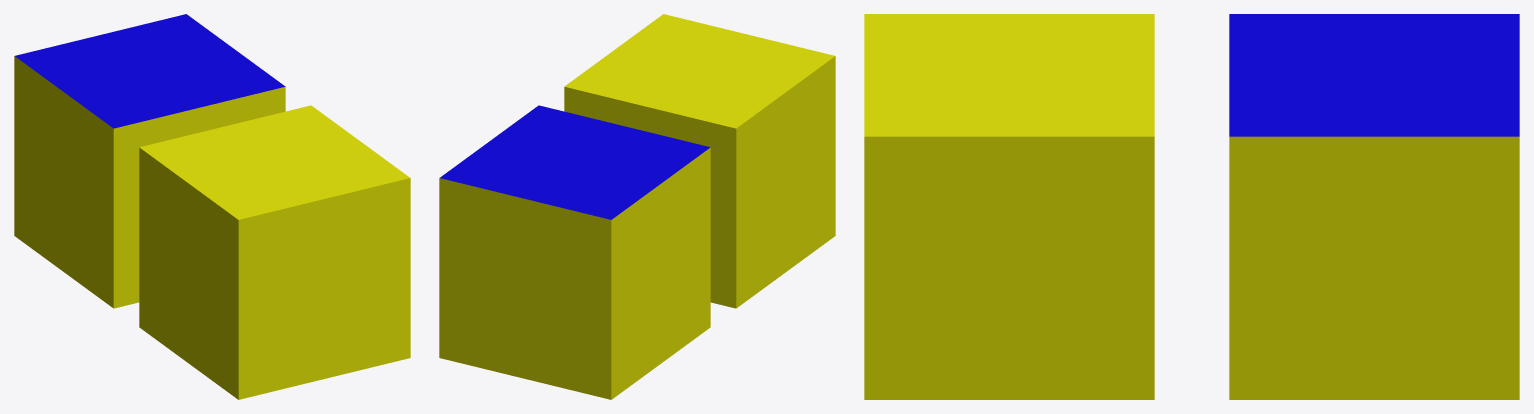
Rendered from Cubo3.fbx.
3 views of the same model, side by side, from view 1: azimuth 30°, elevation 25°; view 2: azimuth 150°, elevation 25°; view 3: azimuth 270°, elevation 25° (orthographic). The views are drawn at different scales.
Visible parts, largest first — view 1: Cubo B, Cubo A; view 2: Cubo A, Cubo B; view 3: Cubo A, Cubo B.
Part boxes in pixels (x1,y1,x2,y2): Cubo B: (139, 105, 410, 399); Cubo A: (14, 14, 285, 308); Cubo A: (439, 105, 710, 399); Cubo B: (564, 14, 835, 308); Cubo A: (1229, 14, 1519, 399); Cubo B: (864, 14, 1154, 399).
Size of the model in its own units: 200 by 200 by 451.
